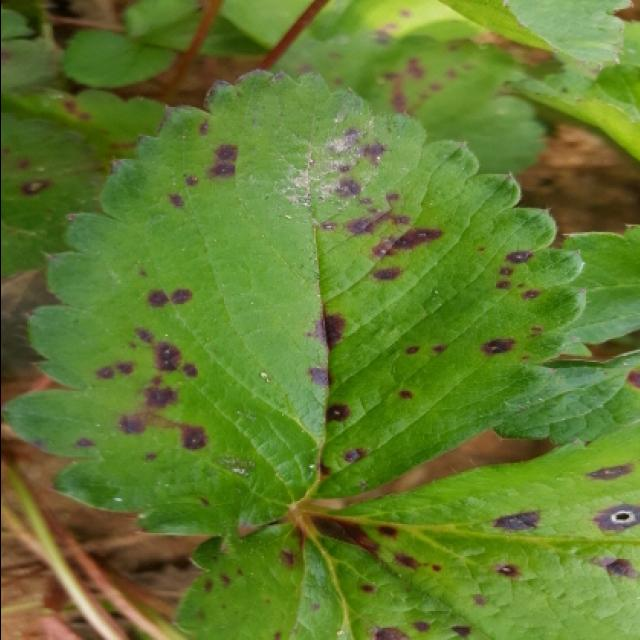Leaf Spot: (2, 67, 585, 548), (323, 420, 640, 640), (172, 508, 496, 640), (270, 29, 546, 176), (2, 86, 161, 280), (301, 2, 493, 42)
